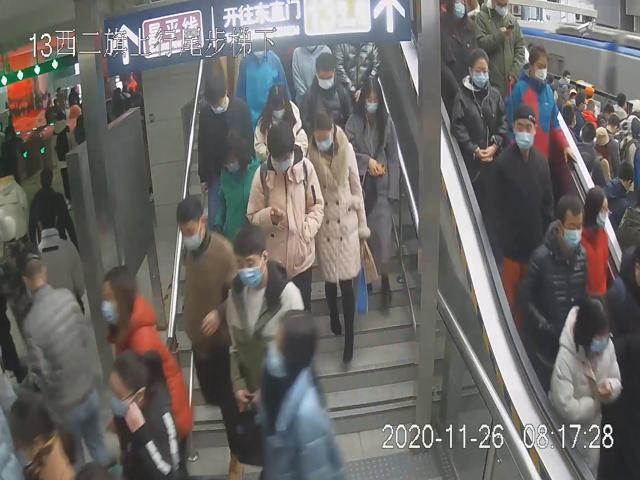person: (305, 109, 379, 372), (479, 103, 556, 310), (223, 226, 303, 409), (251, 122, 320, 327), (173, 189, 234, 414), (548, 299, 622, 480), (344, 76, 399, 316), (516, 192, 590, 370), (193, 63, 253, 218), (448, 45, 508, 176), (211, 133, 263, 236), (251, 80, 309, 165), (298, 52, 352, 133)
